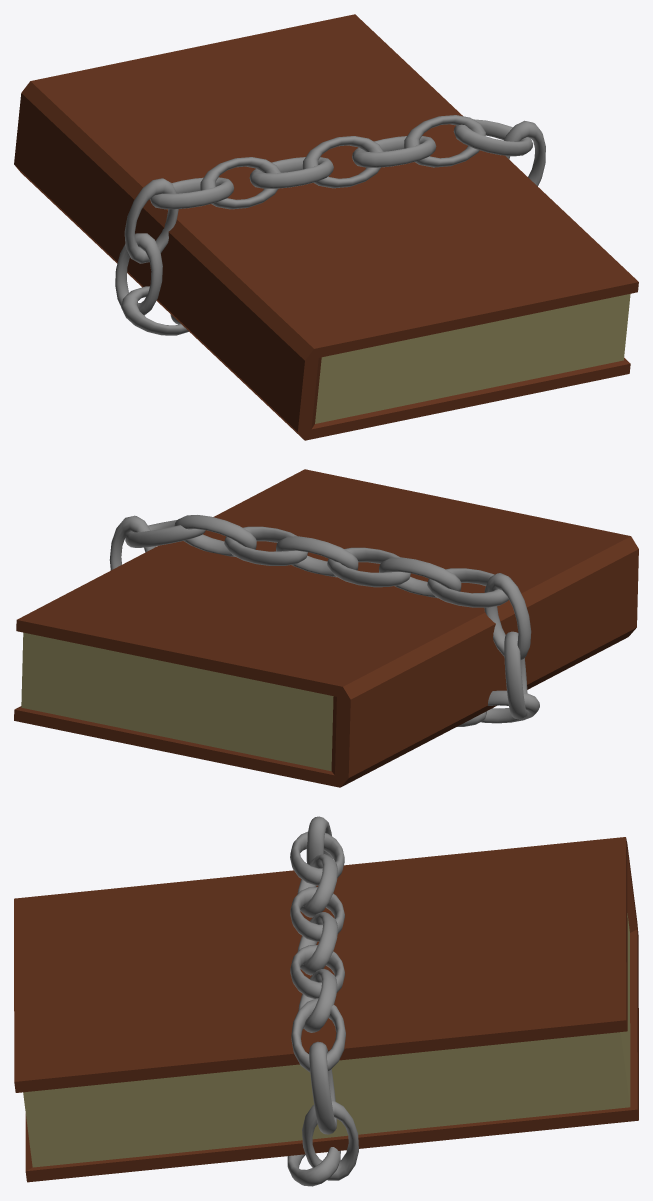
The model's file is chainedBook 1.fbx.
3 views of the same model, one above another, from view 1: azimuth 30°, elevation 25°; view 2: azimuth 150°, elevation 25°; view 3: azimuth 270°, elevation 25° (orthographic). The views are drawn at different scales.
Visible parts, largest first — view 1: Chained Book.001; view 2: Chained Book.001; view 3: Chained Book.001.
Boxes of the visible parts, x1,y1,x2,y2 form: Chained Book.001: (14, 14, 638, 440); Chained Book.001: (14, 469, 638, 787); Chained Book.001: (14, 816, 638, 1186).
Size of the model in its own units: 61.69 by 73.68 by 24.61.
